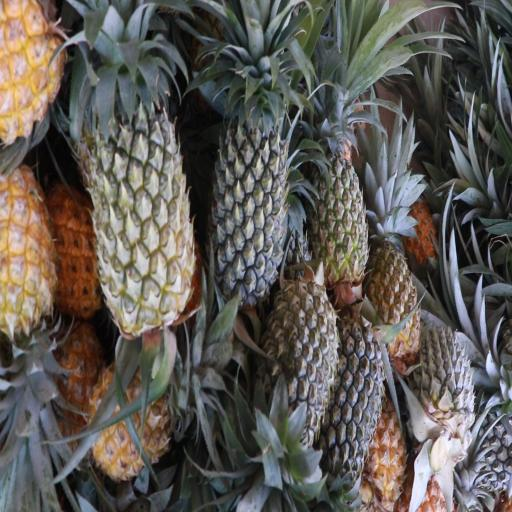------------------------------: (86, 74, 200, 336), (310, 128, 372, 286)
Pineapple - v8 v1: (90, 349, 199, 473), (0, 168, 55, 342), (368, 200, 421, 357)
